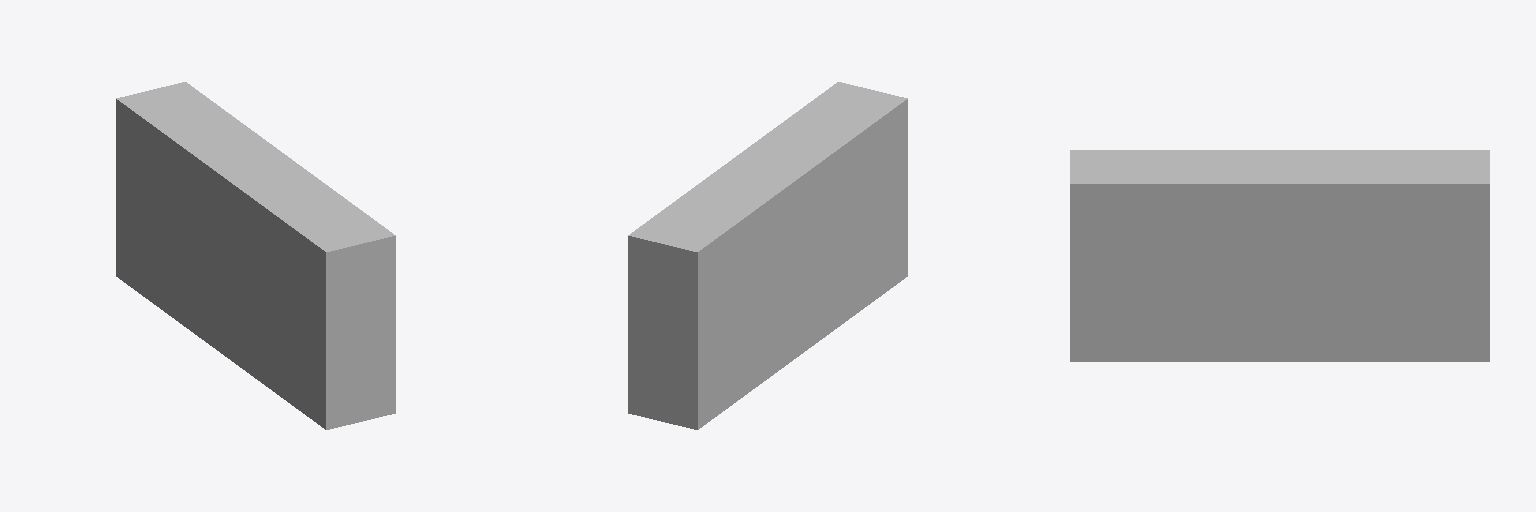
The model's file is mask.obj.
3 views of the same model, side by side, from view 1: azimuth 30°, elevation 25°; view 2: azimuth 150°, elevation 25°; view 3: azimuth 270°, elevation 25° (orthographic).
Visible parts, largest first — view 1: Mask; view 2: Mask; view 3: Mask.
Boxes of the visible parts, box(x1,y1,x2,y2) form: Mask: box(116, 82, 395, 429); Mask: box(628, 82, 907, 429); Mask: box(1070, 150, 1489, 361).
Size of the model in its own units: 0.4125 by 1.01 by 2.16.